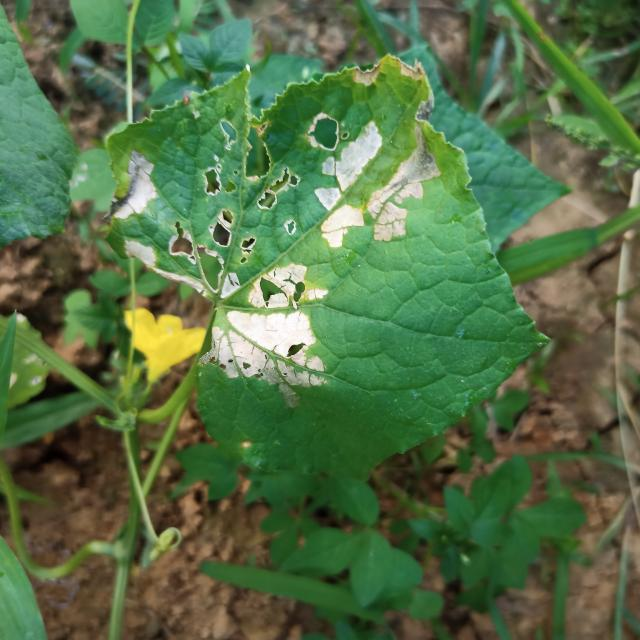disease_cucumber: (119, 74, 435, 307), (203, 306, 336, 416)
